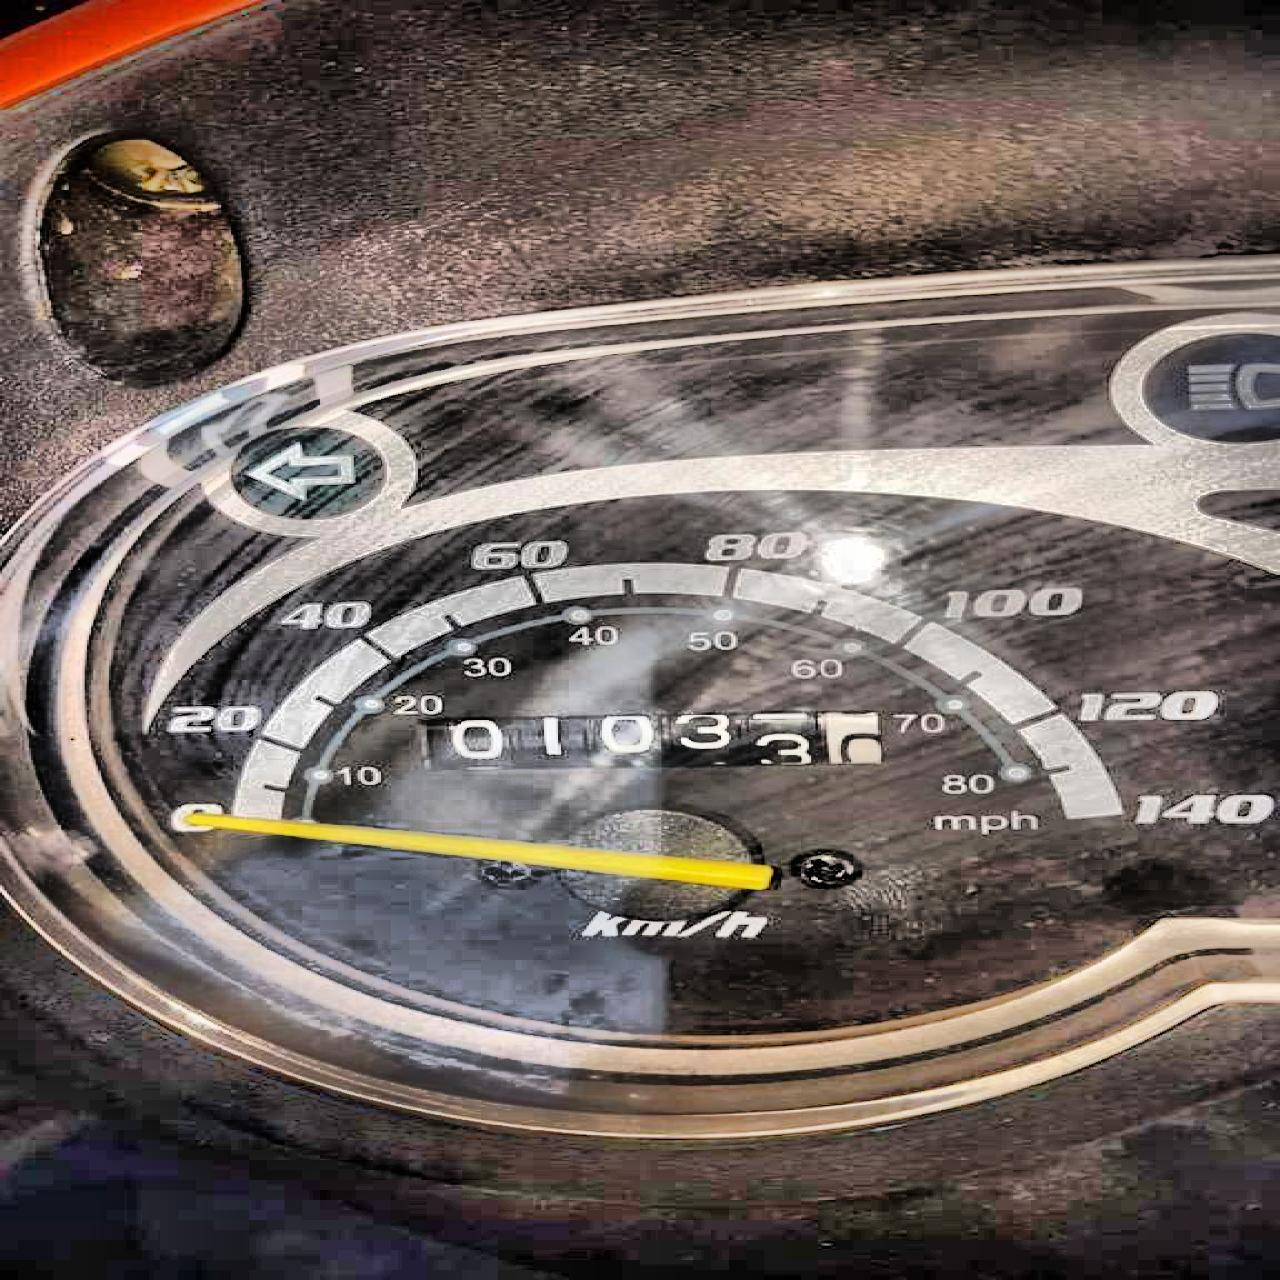0: (447, 715, 504, 761), (831, 726, 891, 765), (598, 714, 655, 753)
1: (531, 714, 573, 763)
3: (674, 712, 734, 754), (751, 730, 816, 769)
odometer: (409, 712, 898, 770)
